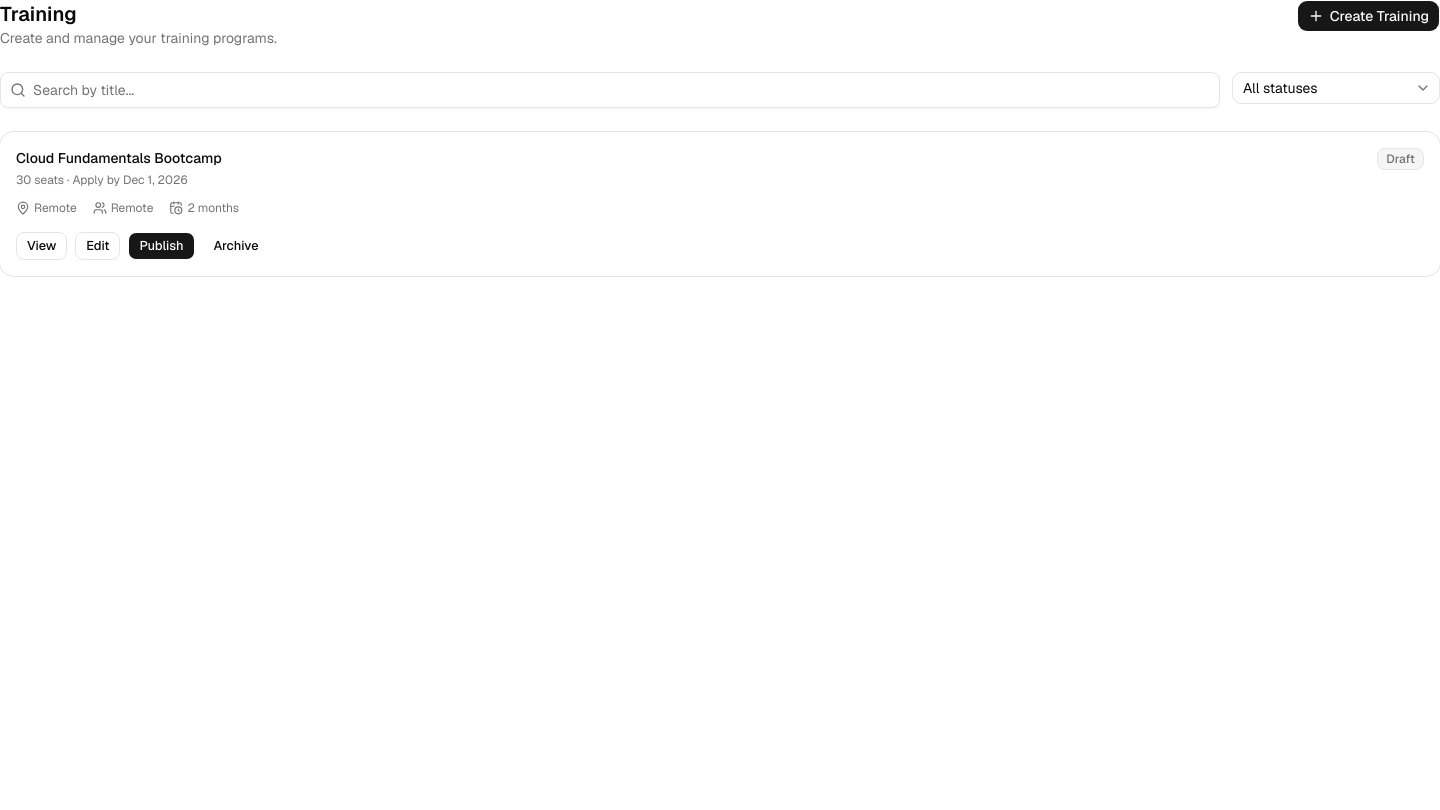
Test: TrainingsListView › publishes a training record through the confirmation dialog
The width and height of the screenshot is (1440, 810).
Check: the link "Cloud Fundamentals Bootcamp" is shown, box [16,148,222,168]
Click the button "Publish" at (162, 246), box [128,232,195,260]
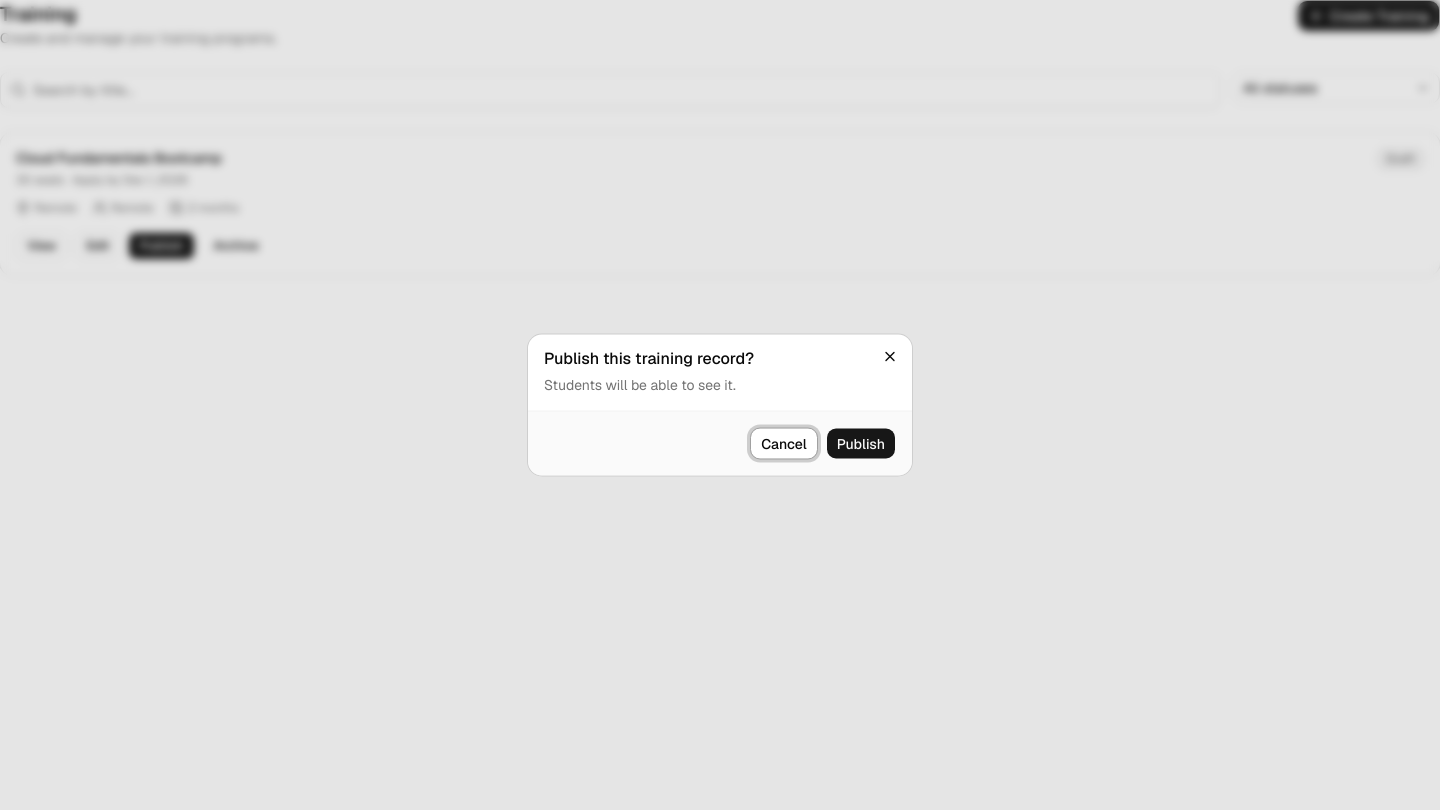
Click the button "Publish" at (861, 444), box [826,428,896,460]
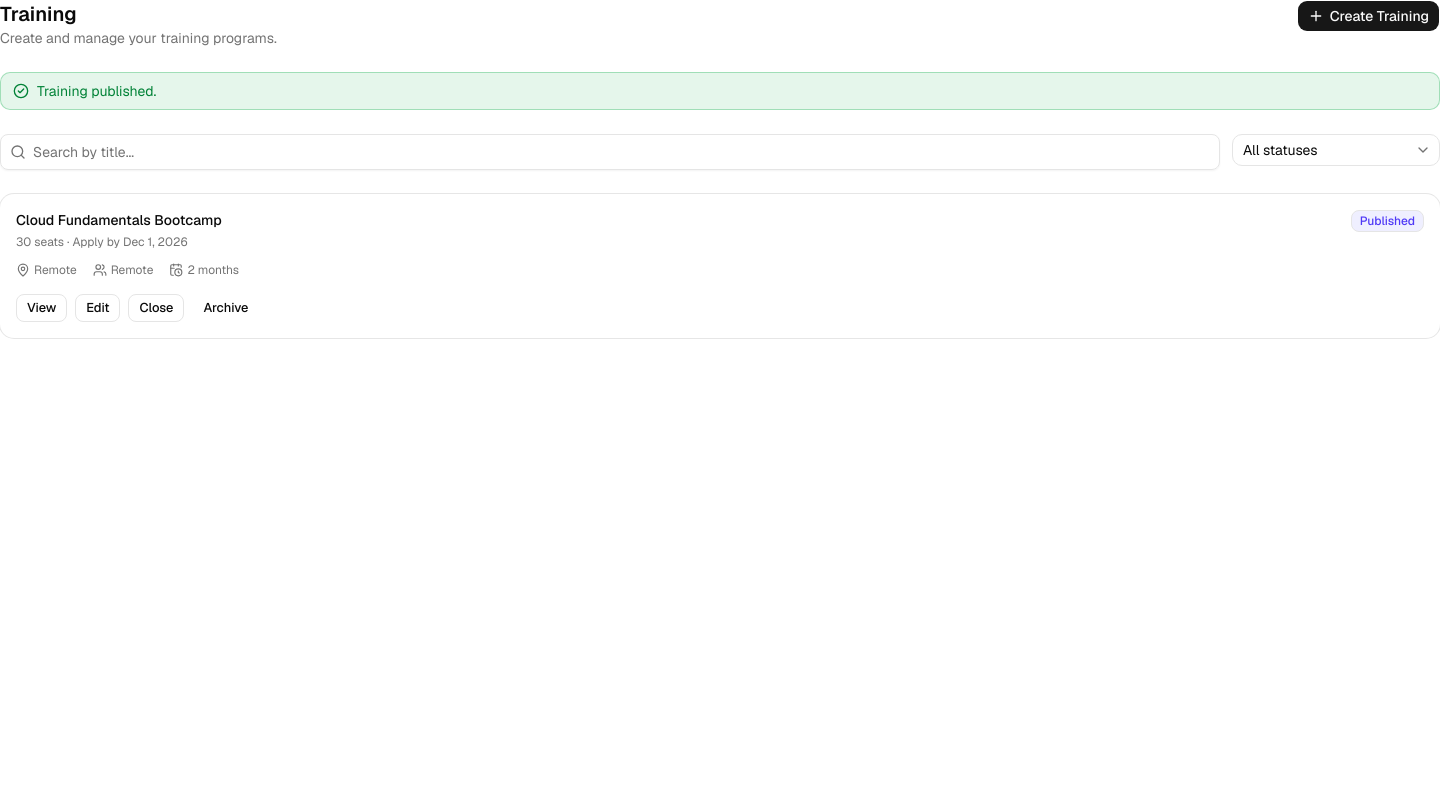
Check: the text "Training published." is shown, box [37,81,156,101]
